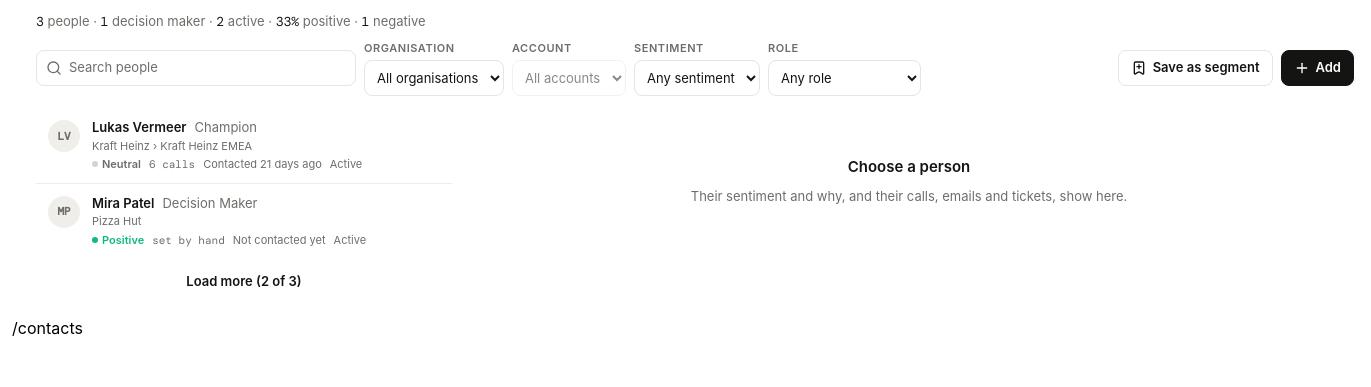
Scenario: Contacts page (spec 2026-09-28 §3) › loads more at the end
The image size is (1371, 387).
Expected: the list named "People" is shown, [36,108,452,258]
Expected: the number of list items is 2, [36,108,452,184]; [48,194,366,246]
Click the button "Load more (2 of 3)".
click(244, 282)  # box [36,264,452,300]
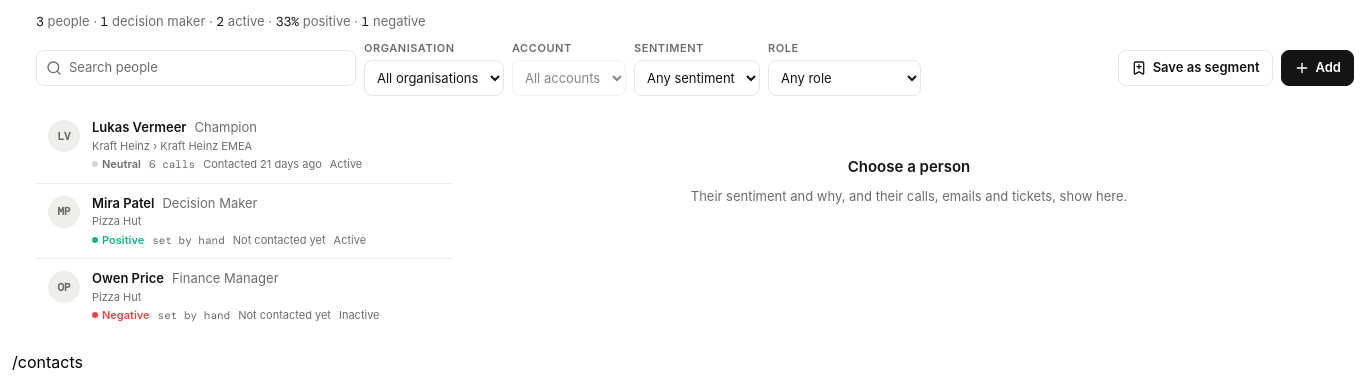
Now the number of list items is 3, box [36,108,452,184]; [36,184,452,259]; [48,270,380,322]
Now the button "Load more" is gone
